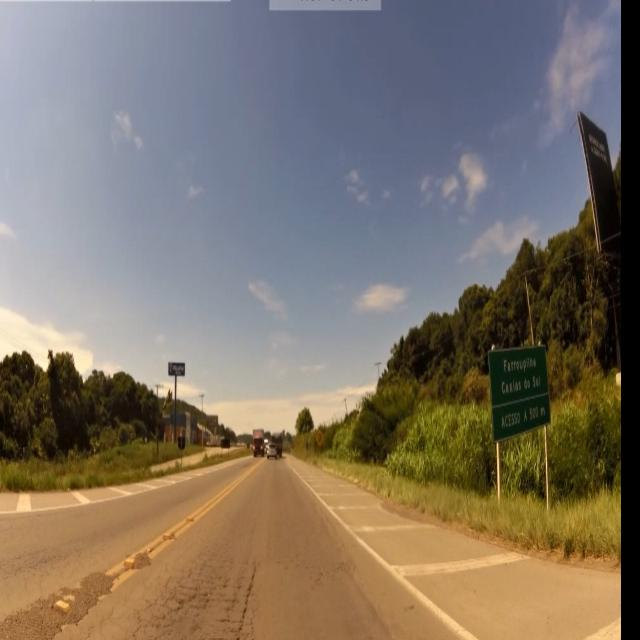I-4: (487, 346, 556, 436)
